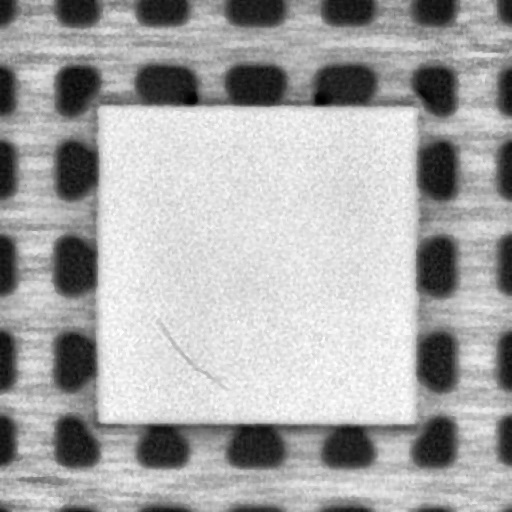DIE_CRACK: (153, 316, 228, 391)
